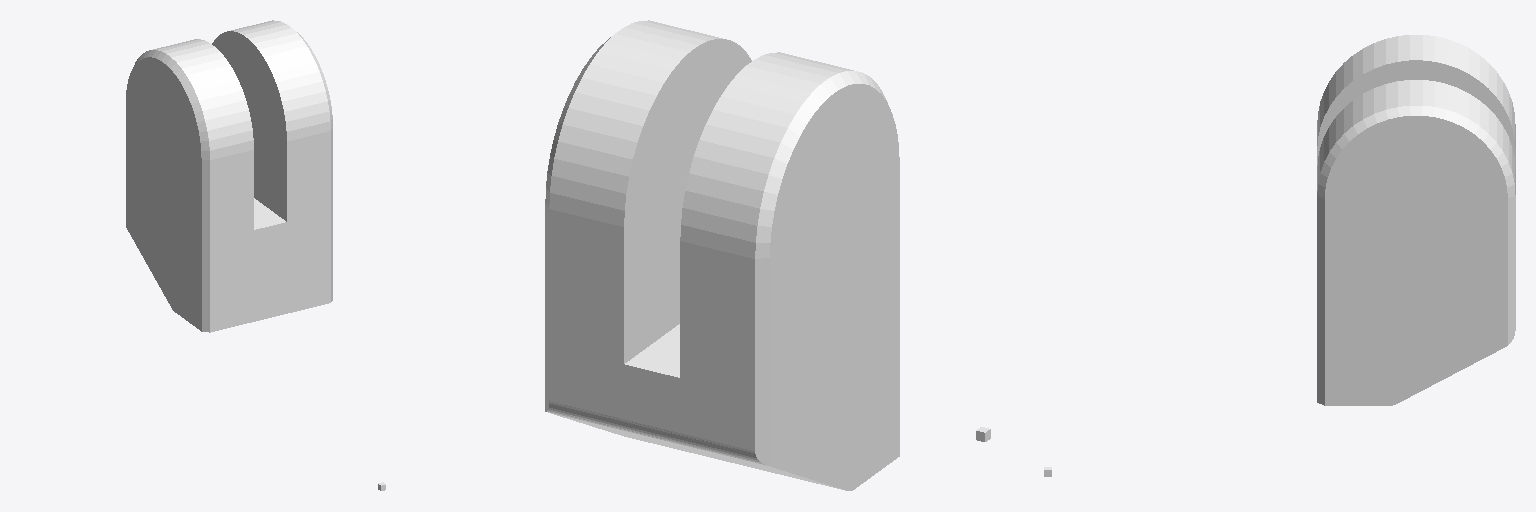
URDF robot description (robot):
<?xml version="1.0" ?>
<robot name="">
	<link name="mount_base_link">
		<inertial>
			<origin rpy="0.00000 -0.00000 0.00000" xyz="0.00000 0.00000 0.00000"/>
			<mass value="0.00000"/>
			<inertia ixx="0.00000" ixy="0" ixz="0" iyy="0.00000" iyz="0" izz="0.00000"/>
		</inertial>
	</link>
	<link name="link_x">
		<inertial>
			<origin rpy="0.00000 -0.00000 0.00000" xyz="0.00000 0.00000 0.00000"/>
			<mass value="0.00000"/>
			<inertia ixx="0.00000" ixy="0" ixz="0" iyy="0.00000" iyz="0" izz="0.00000"/>
		</inertial>
	</link>
	<link name="link_y">
		<inertial>
			<origin rpy="0.00000 -0.00000 0.00000" xyz="0.00000 0.00000 0.00000"/>
			<mass value="0.00000"/>
			<inertia ixx="0.00000" ixy="0" ixz="0" iyy="0.00000" iyz="0" izz="0.00000"/>
		</inertial>
	</link>
	<link name="link_z">
		<inertial>
			<origin rpy="0.00000 -0.00000 0.00000" xyz="0.00000 0.00000 0.00000"/>
			<mass value="0.00000"/>
			<inertia ixx="0.00000" ixy="0" ixz="0" iyy="0.00000" iyz="0" izz="0.00000"/>
		</inertial>
	</link>
	<link name="mount_link">
		<inertial>
			<origin rpy="0.00000 -0.00000 0.00000" xyz="0.00000 0.00000 0.00000"/>
			<mass value="1.20000"/>
			<inertia ixx="0.00000" ixy="0" ixz="0" iyy="0.00000" iyz="0" izz="0.00000"/>
		</inertial>
	</link>
	<link name="base_link">
		<inertial>
			<origin rpy="0.00000 -0.00000 0.00000" xyz="0.00000 0.00000 0.00000"/>
			<mass value="1.00000"/>
			<inertia ixx="0.00000" ixy="0" ixz="0" iyy="0.00000" iyz="0" izz="0.00000"/>
		</inertial>
		<visual>
			<origin rpy="0.00000 -0.00000 0.00000" xyz="0.00000 0.00000 0.01000"/>
			<geometry>
				<box size="0.00100 0.00100 0.00100"/>
			</geometry>
			<material name="mat_-1_0">
				<color rgba="1.00000 1.00000 1.00000 1.00000" />
			</material>
		</visual>
		<collision>
			<origin rpy="0.00000 -0.00000 0.00000" xyz="0.00000 0.00000 0.01000"/>
			<geometry>
				<box size="0.00100 0.00100 0.00100"/>
			</geometry>
		</collision>
	</link>
	<link name="hand_base_link">
		<inertial>
			<origin rpy="0.00000 -0.00000 0.00000" xyz="0.00000 0.00000 0.00000"/>
			<mass value="1.00000"/>
			<inertia ixx="0.00000" ixy="0" ixz="0" iyy="0.00000" iyz="0" izz="0.00000"/>
		</inertial>
	</link>
	<link name="bh_base_link">
		<inertial>
			<origin rpy="0.00000 -0.00000 0.00000" xyz="0.00000 0.00000 0.00000"/>
			<mass value="3.00000"/>
			<inertia ixx="0.00334" ixy="0" ixz="0" iyy="0.00334" iyz="0" izz="0.00451"/>
		</inertial>
		<visual>
			<origin rpy="0.00000 -0.00000 0.00000" xyz="0.00000 0.00000 0.00000"/>
			<geometry>
				<mesh filename="assets//../assets/robot_hands/barrett/stl/palm_282.stl" scale="1.00000 1.00000 1.00000"/>
			</geometry>
			<material name="mat_1_0">
				<color rgba="0.75000 0.75000 0.75000 1.00000" />
			</material>
		</visual>
		<collision>
			<origin rpy="0.00000 -0.00000 0.00000" xyz="0.00000 0.00000 0.00000"/>
			<geometry>
				<mesh filename="assets//../assets/robot_hands/barrett/stl/palm_282.stl" scale="1.00000 1.00000 1.00000"/>
			</geometry>
		</collision>
	</link>
	<link name="bh_finger_31_link">
		<inertial>
			<origin rpy="0.00000 -0.00000 0.00000" xyz="-0.04600 0.00000 0.00000"/>
			<mass value="0.10000"/>
			<inertia ixx="0.00000" ixy="0" ixz="0" iyy="0.00000" iyz="0" izz="0.00000"/>
		</inertial>
		<visual>
			<origin rpy="0.00000 -0.00000 0.00000" xyz="-0.04000 0.00000 0.00000"/>
			<geometry>
				<mesh filename="assets//../assets/robot_hands/barrett/stl/knuckle_fixed.stl" scale="1.00000 1.00000 1.00000"/>
			</geometry>
			<material name="mat_2_0">
				<color rgba="1.00000 1.00000 1.00000 1.00000" />
			</material>
		</visual>
	</link>
	<link name="bh_finger_32_link">
		<inertial>
			<origin rpy="0.00000 -0.00000 0.00000" xyz="0.00000 0.00000 0.00000"/>
			<mass value="0.10000"/>
			<inertia ixx="0.00002" ixy="0" ixz="0" iyy="0.00009" iyz="0" izz="0.00009"/>
		</inertial>
		<visual>
			<origin rpy="0.00000 -0.00000 0.00000" xyz="0.00000 0.00000 0.00000"/>
			<geometry>
				<mesh filename="assets//../assets/robot_hands/barrett/stl/finger.stl" scale="1.00000 1.00000 1.00000"/>
			</geometry>
			<material name="mat_3_0">
				<color rgba="1.00000 1.00000 1.00000 1.00000" />
			</material>
		</visual>
		<collision>
			<origin rpy="0.00000 -0.00000 0.00000" xyz="0.00000 0.00000 0.00000"/>
			<geometry>
				<mesh filename="assets//../assets/robot_hands/barrett/stl/finger.stl" scale="1.00000 1.00000 1.00000"/>
			</geometry>
		</collision>
	</link>
	<link name="bh_finger_33_link">
		<inertial>
			<origin rpy="0.00000 -0.00000 0.00000" xyz="0.00000 0.00000 0.00000"/>
			<mass value="0.10000"/>
			<inertia ixx="0.00003" ixy="0" ixz="0" iyy="0.00004" iyz="0" izz="0.00006"/>
		</inertial>
		<visual>
			<origin rpy="0.00000 -0.00000 0.00000" xyz="0.00000 0.00000 0.00000"/>
			<geometry>
				<mesh filename="assets//../assets/robot_hands/barrett/stl/finger_tip.stl" scale="1.00000 1.00000 1.00000"/>
			</geometry>
			<material name="mat_4_0">
				<color rgba="1.00000 1.00000 1.00000 1.00000" />
			</material>
		</visual>
		<collision>
			<origin rpy="0.00000 -0.00000 0.00000" xyz="0.00000 0.00000 0.00000"/>
			<geometry>
				<mesh filename="assets//../assets/robot_hands/barrett/stl/finger_tip.stl" scale="1.00000 1.00000 1.00000"/>
			</geometry>
		</collision>
	</link>
	<link name="bh_finger_3_tip_link">
		<inertial>
			<origin rpy="0.00000 -0.00000 0.00000" xyz="0.00000 0.00000 0.00000"/>
			<mass value="1.00000"/>
			<inertia ixx="0.00000" ixy="0" ixz="0" iyy="0.00000" iyz="0" izz="0.00000"/>
		</inertial>
	</link>
	<link name="bh_finger_11_link">
		<inertial>
			<origin rpy="0.00000 -0.00000 0.00000" xyz="-0.04600 0.00000 0.00000"/>
			<mass value="0.10000"/>
			<inertia ixx="0.00000" ixy="0" ixz="0" iyy="0.00000" iyz="0" izz="0.00000"/>
		</inertial>
		<visual>
			<origin rpy="0.00000 -0.00000 0.00000" xyz="0.00000 0.00000 0.00000"/>
			<geometry>
				<mesh filename="assets//../assets/robot_hands/barrett/stl/knuckle.stl" scale="1.00000 1.00000 1.00000"/>
			</geometry>
			<material name="mat_6_0">
				<color rgba="1.00000 1.00000 1.00000 1.00000" />
			</material>
		</visual>
	</link>
	<link name="bh_finger_12_link">
		<inertial>
			<origin rpy="0.00000 -0.00000 0.00000" xyz="0.00000 0.00000 0.00000"/>
			<mass value="0.10000"/>
			<inertia ixx="0.00002" ixy="0" ixz="0" iyy="0.00009" iyz="0" izz="0.00009"/>
		</inertial>
		<visual>
			<origin rpy="0.00000 -0.00000 0.00000" xyz="0.00000 0.00000 0.00000"/>
			<geometry>
				<mesh filename="assets//../assets/robot_hands/barrett/stl/finger.stl" scale="1.00000 1.00000 1.00000"/>
			</geometry>
			<material name="mat_7_0">
				<color rgba="1.00000 1.00000 1.00000 1.00000" />
			</material>
		</visual>
		<collision>
			<origin rpy="0.00000 -0.00000 0.00000" xyz="0.00000 0.00000 0.00000"/>
			<geometry>
				<mesh filename="assets//../assets/robot_hands/barrett/stl/finger.stl" scale="1.00000 1.00000 1.00000"/>
			</geometry>
		</collision>
	</link>
	<link name="bh_finger_13_link">
		<inertial>
			<origin rpy="0.00000 -0.00000 0.00000" xyz="0.00000 0.00000 0.00000"/>
			<mass value="0.10000"/>
			<inertia ixx="0.00003" ixy="0" ixz="0" iyy="0.00004" iyz="0" izz="0.00006"/>
		</inertial>
		<visual>
			<origin rpy="0.00000 -0.00000 0.00000" xyz="0.00000 0.00000 0.00000"/>
			<geometry>
				<mesh filename="assets//../assets/robot_hands/barrett/stl/finger_tip.stl" scale="1.00000 1.00000 1.00000"/>
			</geometry>
			<material name="mat_8_0">
				<color rgba="1.00000 1.00000 1.00000 1.00000" />
			</material>
		</visual>
		<collision>
			<origin rpy="0.00000 -0.00000 0.00000" xyz="0.00000 0.00000 0.00000"/>
			<geometry>
				<mesh filename="assets//../assets/robot_hands/barrett/stl/finger_tip.stl" scale="1.00000 1.00000 1.00000"/>
			</geometry>
		</collision>
	</link>
	<link name="bh_finger_1_tip_link">
		<inertial>
			<origin rpy="0.00000 -0.00000 0.00000" xyz="0.00000 0.00000 0.00000"/>
			<mass value="1.00000"/>
			<inertia ixx="0.00000" ixy="0" ixz="0" iyy="0.00000" iyz="0" izz="0.00000"/>
		</inertial>
	</link>
	<link name="bh_finger_21_link">
		<inertial>
			<origin rpy="0.00000 -0.00000 0.00000" xyz="-0.04600 0.00000 0.00000"/>
			<mass value="0.10000"/>
			<inertia ixx="0.00000" ixy="0" ixz="0" iyy="0.00000" iyz="0" izz="0.00000"/>
		</inertial>
		<visual>
			<origin rpy="0.00000 -0.00000 0.00000" xyz="0.00000 0.00000 0.00000"/>
			<geometry>
				<mesh filename="assets//../assets/robot_hands/barrett/stl/knuckle.stl" scale="1.00000 1.00000 1.00000"/>
			</geometry>
			<material name="mat_10_0">
				<color rgba="1.00000 1.00000 1.00000 1.00000" />
			</material>
		</visual>
	</link>
	<link name="bh_finger_22_link">
		<inertial>
			<origin rpy="0.00000 -0.00000 0.00000" xyz="0.00000 0.00000 0.00000"/>
			<mass value="0.10000"/>
			<inertia ixx="0.00002" ixy="0" ixz="0" iyy="0.00009" iyz="0" izz="0.00009"/>
		</inertial>
		<visual>
			<origin rpy="0.00000 -0.00000 0.00000" xyz="0.00000 0.00000 0.00000"/>
			<geometry>
				<mesh filename="assets//../assets/robot_hands/barrett/stl/finger.stl" scale="1.00000 1.00000 1.00000"/>
			</geometry>
			<material name="mat_11_0">
				<color rgba="1.00000 1.00000 1.00000 1.00000" />
			</material>
		</visual>
		<collision>
			<origin rpy="0.00000 -0.00000 0.00000" xyz="0.00000 0.00000 0.00000"/>
			<geometry>
				<mesh filename="assets//../assets/robot_hands/barrett/stl/finger.stl" scale="1.00000 1.00000 1.00000"/>
			</geometry>
		</collision>
	</link>
	<link name="bh_finger_23_link">
		<inertial>
			<origin rpy="0.00000 -0.00000 0.00000" xyz="0.00000 0.00000 0.00000"/>
			<mass value="0.10000"/>
			<inertia ixx="0.00003" ixy="0" ixz="0" iyy="0.00004" iyz="0" izz="0.00006"/>
		</inertial>
		<visual>
			<origin rpy="0.00000 -0.00000 0.00000" xyz="0.00000 0.00000 0.00000"/>
			<geometry>
				<mesh filename="assets//../assets/robot_hands/barrett/stl/finger_tip.stl" scale="1.00000 1.00000 1.00000"/>
			</geometry>
			<material name="mat_12_0">
				<color rgba="1.00000 1.00000 1.00000 1.00000" />
			</material>
		</visual>
		<collision>
			<origin rpy="0.00000 -0.00000 0.00000" xyz="0.00000 0.00000 0.00000"/>
			<geometry>
				<mesh filename="assets//../assets/robot_hands/barrett/stl/finger_tip.stl" scale="1.00000 1.00000 1.00000"/>
			</geometry>
		</collision>
	</link>
	<link name="bh_finger_2_tip_link">
		<inertial>
			<origin rpy="0.00000 -0.00000 0.00000" xyz="0.00000 0.00000 0.00000"/>
			<mass value="1.00000"/>
			<inertia ixx="0.00000" ixy="0" ixz="0" iyy="0.00000" iyz="0" izz="0.00000"/>
		</inertial>
	</link>
	<link name="bh_palm_link">
		<inertial>
			<origin rpy="0.00000 -0.00000 0.00000" xyz="0.00000 0.00000 0.00000"/>
			<mass value="1.00000"/>
			<inertia ixx="0.00000" ixy="0" ixz="0" iyy="0.00000" iyz="0" izz="0.00000"/>
		</inertial>
	</link>
	<joint name="joint_x" type="prismatic">
		<parent link="mount_base_link"/>
		<child link="link_x"/>
		<limit effort="1000.0" lower="-1000.00000" upper="1000.00000" velocity="10"/>
		<dynamics damping="1.0" friction="0.0001"/>
		<origin rpy="0.00000 -0.00000 0.00000" xyz="0.00000 0.00000 0.00000"/>
		<axis xyz="1.00000 0.00000 0.00000"/>
	</joint>
	<joint name="joint_y" type="prismatic">
		<parent link="link_x"/>
		<child link="link_y"/>
		<limit effort="1000.0" lower="-1000.00000" upper="1000.00000" velocity="10"/>
		<dynamics damping="1.0" friction="0.0001"/>
		<origin rpy="0.00000 -0.00000 0.00000" xyz="0.00000 0.00000 0.00000"/>
		<axis xyz="0.00000 1.00000 0.00000"/>
	</joint>
	<joint name="joint_z" type="prismatic">
		<parent link="link_y"/>
		<child link="link_z"/>
		<limit effort="1000.0" lower="-1000.00000" upper="1000.00000" velocity="10"/>
		<dynamics damping="1.0" friction="0.0001"/>
		<origin rpy="0.00000 -0.00000 0.00000" xyz="0.00000 0.00000 0.00000"/>
		<axis xyz="0.00000 0.00000 1.00000"/>
	</joint>
	<joint name="joint_revolute" type="revolute">
		<parent link="link_z"/>
		<child link="mount_link"/>
		<limit effort="1000.0" lower="-100.00000" upper="100.00000" velocity="10"/>
		<dynamics damping="1.0" friction="0.0001"/>
		<origin rpy="0.00000 -0.00000 0.00000" xyz="0.00000 0.00000 0.00000"/>
		<axis xyz="1.00000 0.00000 0.00000"/>
	</joint>
	<joint name="joint_mount_gripper" type="fixed">
		<parent link="mount_link"/>
		<child link="base_link"/>
		<limit effort="1000.0" lower="0.00000" upper="-1.00000" velocity="10"/>
		<dynamics damping="1.0" friction="0.0001"/>
		<origin rpy="0.00000 -0.00000 0.00000" xyz="0.00000 0.00000 -0.06500"/>
		<axis xyz="0.00000 0.00000 1.00000"/>
	</joint>
	<joint name="hand_joint" type="fixed">
		<parent link="base_link"/>
		<child link="hand_base_link"/>
		<limit effort="1000.0" lower="0.00000" upper="-1.00000" velocity="10"/>
		<dynamics damping="1.0" friction="0.0001"/>
		<origin rpy="0.00000 -0.00000 0.00000" xyz="0.00000 0.00000 0.00000"/>
		<axis xyz="0.00000 0.00000 0.00000"/>
	</joint>
	<joint name="bh_base_joint" type="fixed">
		<parent link="hand_base_link"/>
		<child link="bh_base_link"/>
		<limit effort="1000.0" lower="0.00000" upper="-1.00000" velocity="10"/>
		<dynamics damping="1.0" friction="0.0001"/>
		<origin rpy="0.00000 -0.00000 0.00000" xyz="0.00000 0.00000 0.00000"/>
		<axis xyz="0.00000 0.00000 0.00000"/>
	</joint>
	<joint name="bh_j31_joint" type="fixed">
		<parent link="bh_base_link"/>
		<child link="bh_finger_31_link"/>
		<limit effort="1000.0" lower="0.00000" upper="-1.00000" velocity="10"/>
		<dynamics damping="1.0" friction="0.0001"/>
		<origin rpy="0.00000 0.00000 -1.57080" xyz="0.00000 0.00000 0.02520"/>
		<axis xyz="0.00000 0.00000 0.00000"/>
	</joint>
	<joint name="bh_j32_joint" type="revolute">
		<parent link="bh_finger_31_link"/>
		<child link="bh_finger_32_link"/>
		<limit effort="1000.0" lower="0.00000" upper="2.44000" velocity="10"/>
		<dynamics damping="1.0" friction="0.0001"/>
		<origin rpy="1.57080 -0.00000 0.00000" xyz="-0.05000 0.00000 0.03390"/>
		<axis xyz="0.00000 0.00000 -1.00000"/>
	</joint>
	<joint name="bh_j33_joint" type="revolute">
		<parent link="bh_finger_32_link"/>
		<child link="bh_finger_33_link"/>
		<limit effort="1000.0" lower="0.00000" upper="0.84000" velocity="10"/>
		<dynamics damping="1.0" friction="0.0001"/>
		<origin rpy="0.00000 -0.00000 0.00000" xyz="-0.06994 0.00300 0.00000"/>
		<axis xyz="0.00000 0.00000 -1.00000"/>
	</joint>
	<joint name="bh_j33_tip_joint" type="fixed">
		<parent link="bh_finger_33_link"/>
		<child link="bh_finger_3_tip_link"/>
		<limit effort="1000.0" lower="0.00000" upper="-1.00000" velocity="10"/>
		<dynamics damping="1.0" friction="0.0001"/>
		<origin rpy="0.00000 1.57080 0.80945" xyz="-0.03000 0.03700 0.00000"/>
		<axis xyz="0.00000 0.00000 0.00000"/>
	</joint>
	<joint name="bh_j11_joint" type="revolute">
		<parent link="bh_base_link"/>
		<child link="bh_finger_11_link"/>
		<limit effort="1000.0" lower="0.00000" upper="3.14160" velocity="10"/>
		<dynamics damping="1.0" friction="0.0001"/>
		<origin rpy="0.00000 0.00000 1.57080" xyz="-0.02500 0.00000 0.02520"/>
		<axis xyz="0.00000 0.00000 -1.00000"/>
	</joint>
	<joint name="bh_j12_joint" type="revolute">
		<parent link="bh_finger_11_link"/>
		<child link="bh_finger_12_link"/>
		<limit effort="1000.0" lower="0.00000" upper="2.44000" velocity="10"/>
		<dynamics damping="1.0" friction="0.0001"/>
		<origin rpy="1.57080 -0.00000 0.00000" xyz="-0.05000 0.00000 0.03390"/>
		<axis xyz="0.00000 0.00000 -1.00000"/>
	</joint>
	<joint name="bh_j13_joint" type="revolute">
		<parent link="bh_finger_12_link"/>
		<child link="bh_finger_13_link"/>
		<limit effort="1000.0" lower="0.00000" upper="0.84000" velocity="10"/>
		<dynamics damping="1.0" friction="0.0001"/>
		<origin rpy="0.00000 -0.00000 0.00000" xyz="-0.06994 0.00300 0.00000"/>
		<axis xyz="0.00000 0.00000 -1.00000"/>
	</joint>
	<joint name="bh_j13_tip_joint" type="fixed">
		<parent link="bh_finger_13_link"/>
		<child link="bh_finger_1_tip_link"/>
		<limit effort="1000.0" lower="0.00000" upper="-1.00000" velocity="10"/>
		<dynamics damping="1.0" friction="0.0001"/>
		<origin rpy="0.00000 1.57080 0.80945" xyz="-0.03000 0.03700 0.00000"/>
		<axis xyz="0.00000 0.00000 0.00000"/>
	</joint>
	<joint name="bh_j21_joint" type="revolute">
		<parent link="bh_base_link"/>
		<child link="bh_finger_21_link"/>
		<limit effort="1000.0" lower="0.00000" upper="3.14160" velocity="10"/>
		<dynamics damping="1.0" friction="0.0001"/>
		<origin rpy="0.00000 0.00000 1.57080" xyz="0.02500 0.00000 0.02520"/>
		<axis xyz="0.00000 0.00000 1.00000"/>
	</joint>
	<joint name="bh_j22_joint" type="revolute">
		<parent link="bh_finger_21_link"/>
		<child link="bh_finger_22_link"/>
		<limit effort="1000.0" lower="0.00000" upper="2.44000" velocity="10"/>
		<dynamics damping="1.0" friction="0.0001"/>
		<origin rpy="1.57080 -0.00000 0.00000" xyz="-0.05000 0.00000 0.03390"/>
		<axis xyz="0.00000 0.00000 -1.00000"/>
	</joint>
	<joint name="bh_j23_joint" type="revolute">
		<parent link="bh_finger_22_link"/>
		<child link="bh_finger_23_link"/>
		<limit effort="1000.0" lower="0.00000" upper="0.84000" velocity="10"/>
		<dynamics damping="1.0" friction="0.0001"/>
		<origin rpy="0.00000 -0.00000 0.00000" xyz="-0.06994 0.00300 0.00000"/>
		<axis xyz="0.00000 0.00000 -1.00000"/>
	</joint>
	<joint name="bh_j23_tip_joint" type="fixed">
		<parent link="bh_finger_23_link"/>
		<child link="bh_finger_2_tip_link"/>
		<limit effort="1000.0" lower="0.00000" upper="-1.00000" velocity="10"/>
		<dynamics damping="1.0" friction="0.0001"/>
		<origin rpy="0.00000 1.57080 0.80945" xyz="-0.03000 0.03700 0.00000"/>
		<axis xyz="0.00000 0.00000 0.00000"/>
	</joint>
	<joint name="bh_base_palm_joint" type="fixed">
		<parent link="bh_base_link"/>
		<child link="bh_palm_link"/>
		<limit effort="1000.0" lower="0.00000" upper="-1.00000" velocity="10"/>
		<dynamics damping="1.0" friction="0.0001"/>
		<origin rpy="0.00000 -0.00000 0.00000" xyz="0.00000 0.00000 0.06000"/>
		<axis xyz="0.00000 0.00000 0.00000"/>
	</joint>
</robot>

--- Render facts (derived) ---
Views: 3 orthographic renders of the robot side by side, from view 1: azimuth 30°, elevation 25°; view 2: azimuth 150°, elevation 25°; view 3: azimuth 270°, elevation 25°.
Model robot with 21 links and 20 joints (9 revolute, 3 prismatic, 8 fixed), rooted at mount_base_link, posed every joint at zero.
Links seen in each view (by area): view 1: bh_finger_31_link; view 2: bh_finger_31_link; view 3: bh_finger_31_link.
Link boxes in pixels (x1,y1,x2,y2): bh_finger_31_link: [126, 20, 332, 332]; bh_finger_31_link: [545, 20, 899, 490]; bh_finger_31_link: [1317, 35, 1515, 405].
Bounding box of the posed robot: 0.024 × 0.0617 × 0.0587 m (x, y, z).
1 mesh visuals loaded from 5 distinct referenced files (1 binary STL); not drawn: 9 (reference not matched to a file when rendering).